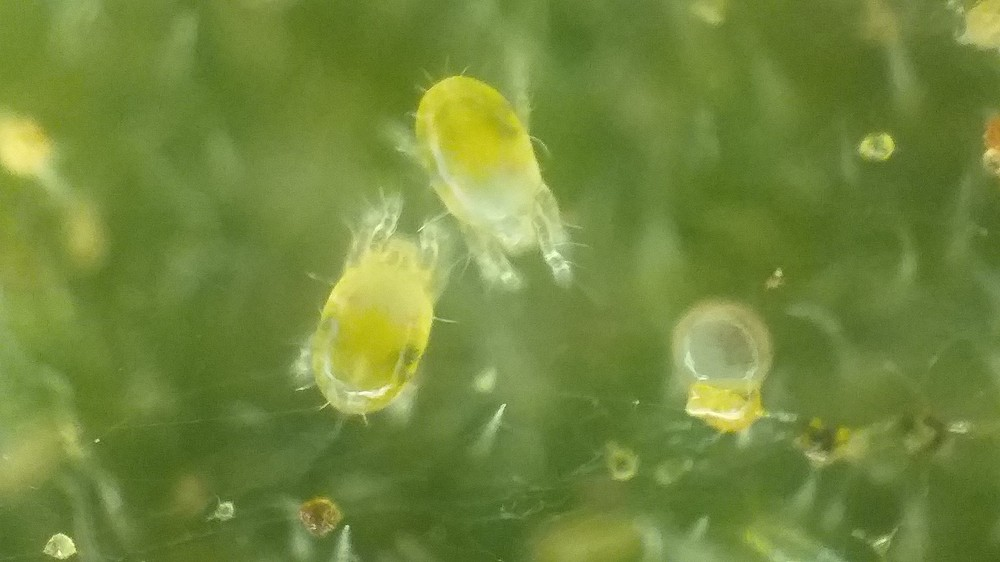Aracnido Rojo: (402, 64, 607, 298), (273, 192, 459, 423)
